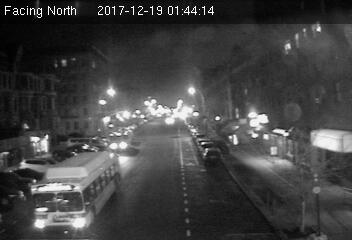bus: (28, 149, 125, 235)
